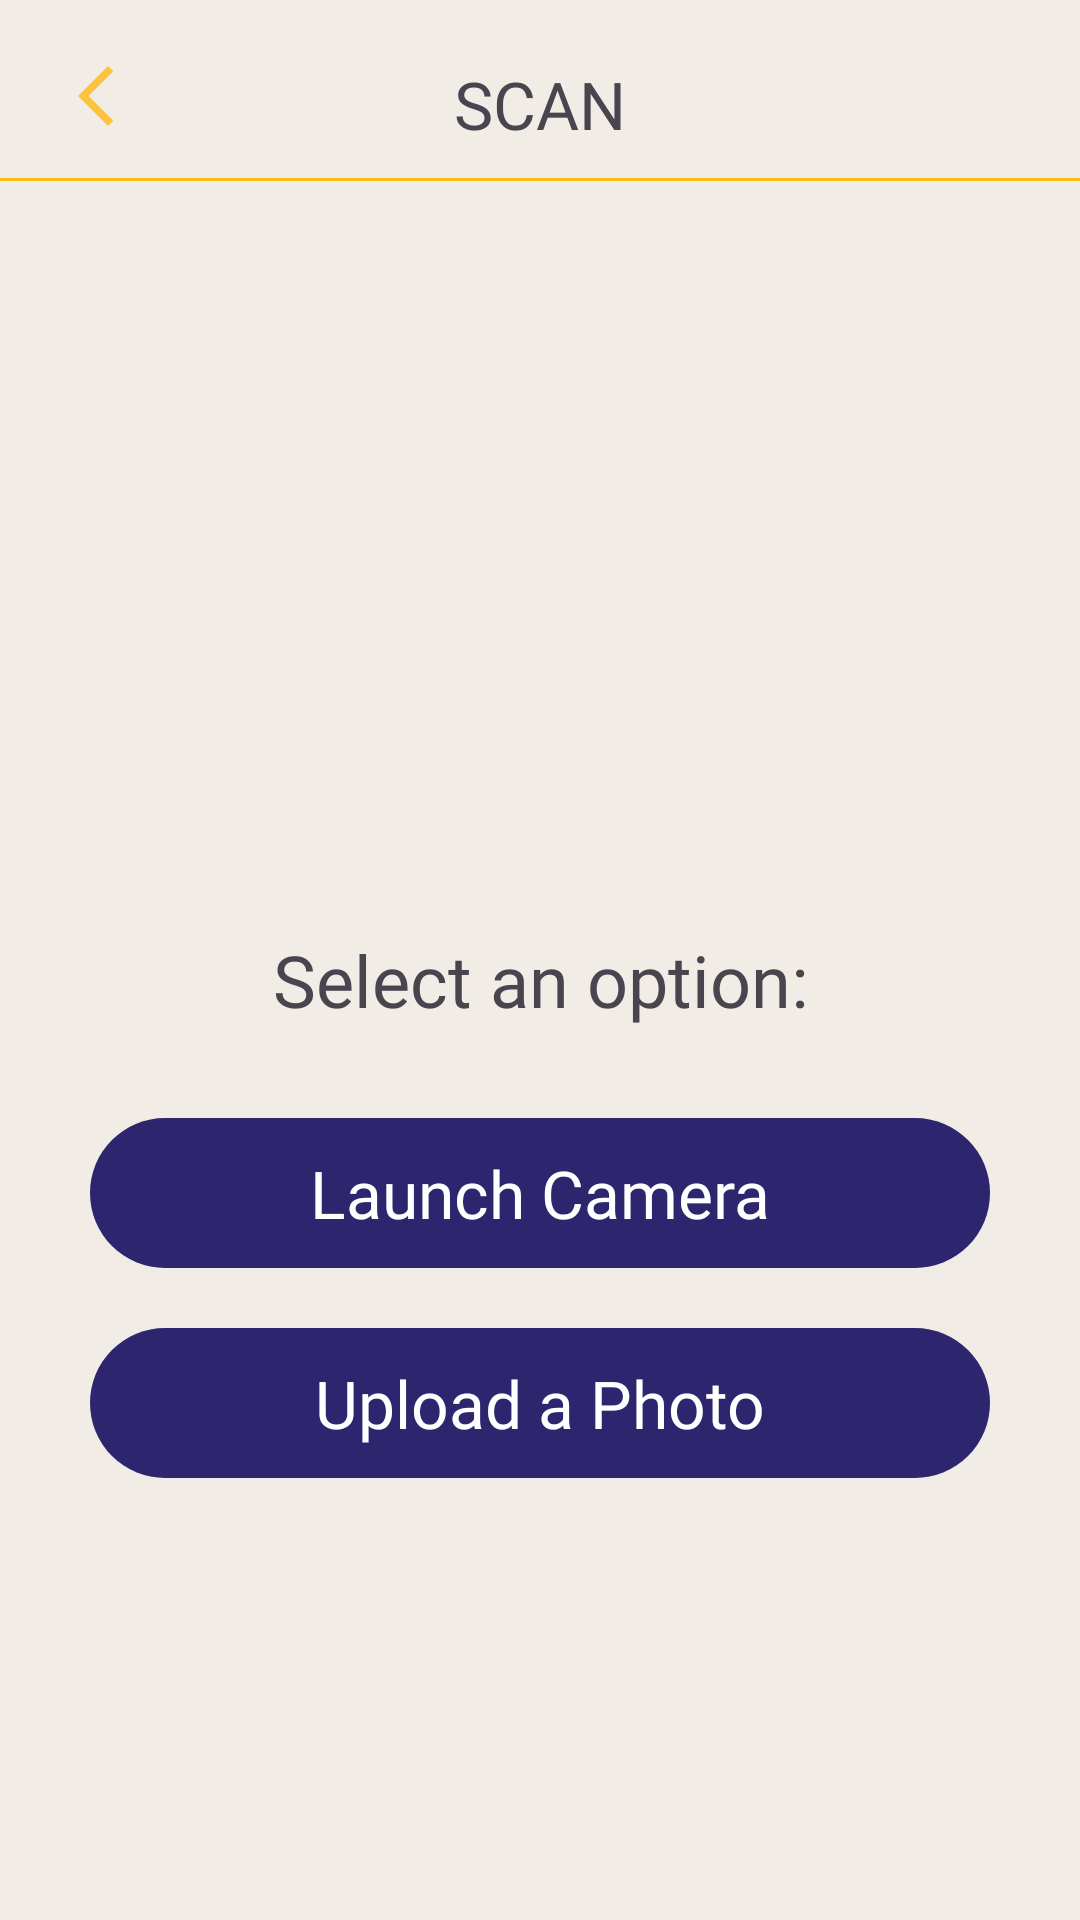

Icons on this 1080w x 1920h Android screen, each with the point to tap as [x,y]:
back: [95,96]
